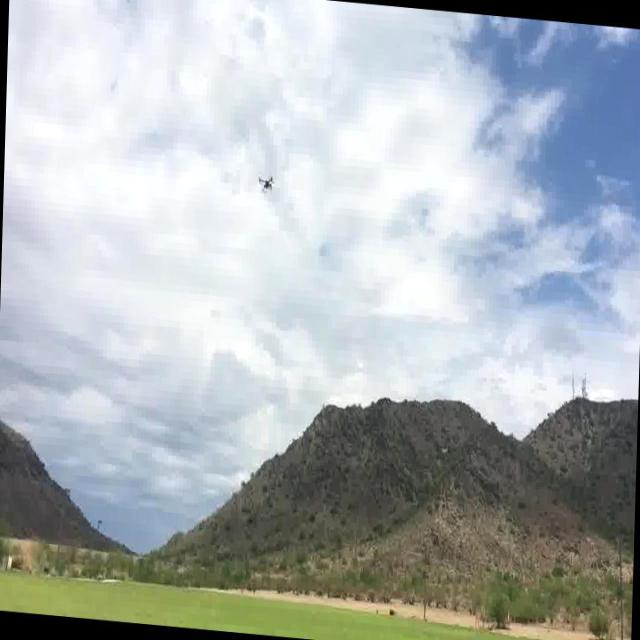drone: (258, 174, 277, 196)
